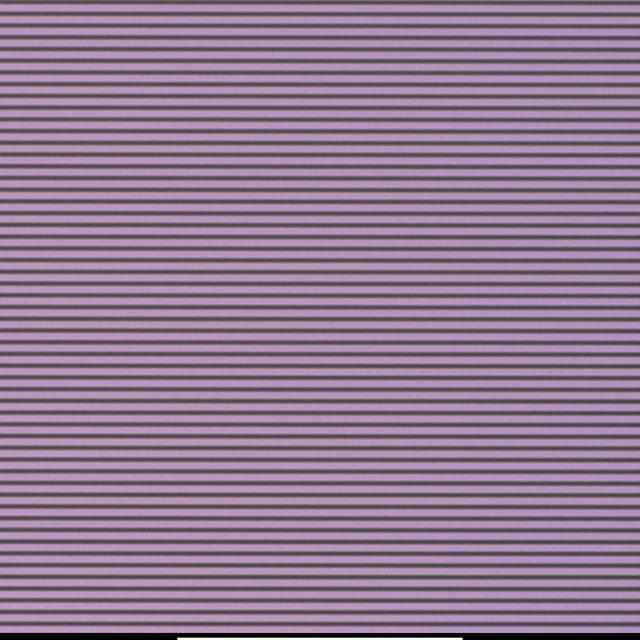nonvisual: (326, 303, 336, 313)
